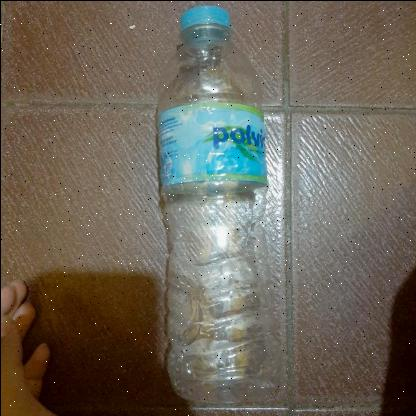Plastic Bottle: (154, 1, 270, 404)
